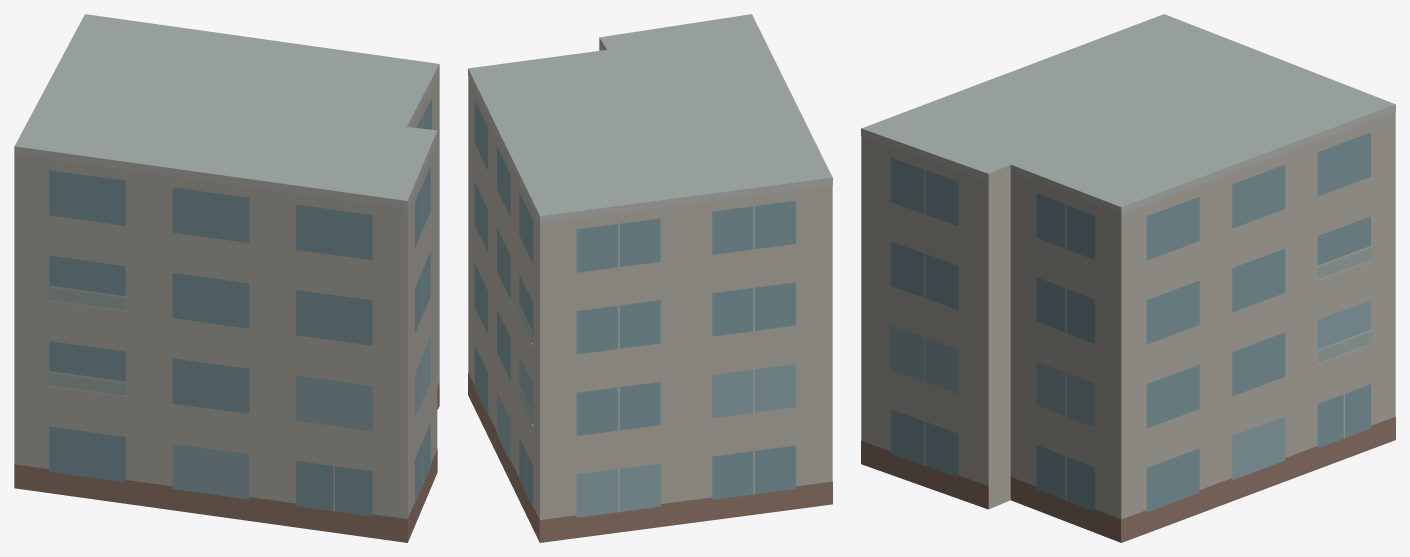
Rendered from survey-upis-32994864.glb.
3 renders of one model, left to right at view 1: azimuth 30°, elevation 25°; view 2: azimuth 150°, elevation 25°; view 3: azimuth 270°, elevation 25°, orthographic. The views are drawn at different scales.
Parts seen in each view (by area): view 1: survey-upis-32994864.tmp; view 2: survey-upis-32994864.tmp; view 3: survey-upis-32994864.tmp.
Boxes of the visible parts, x1=… form: survey-upis-32994864.tmp: x1=14, y1=14, x2=439, y2=542; survey-upis-32994864.tmp: x1=468, y1=14, x2=832, y2=542; survey-upis-32994864.tmp: x1=861, y1=14, x2=1395, y2=542.
Bounding box in the file's own units: 13.49 × 10.92 × 15.77.
